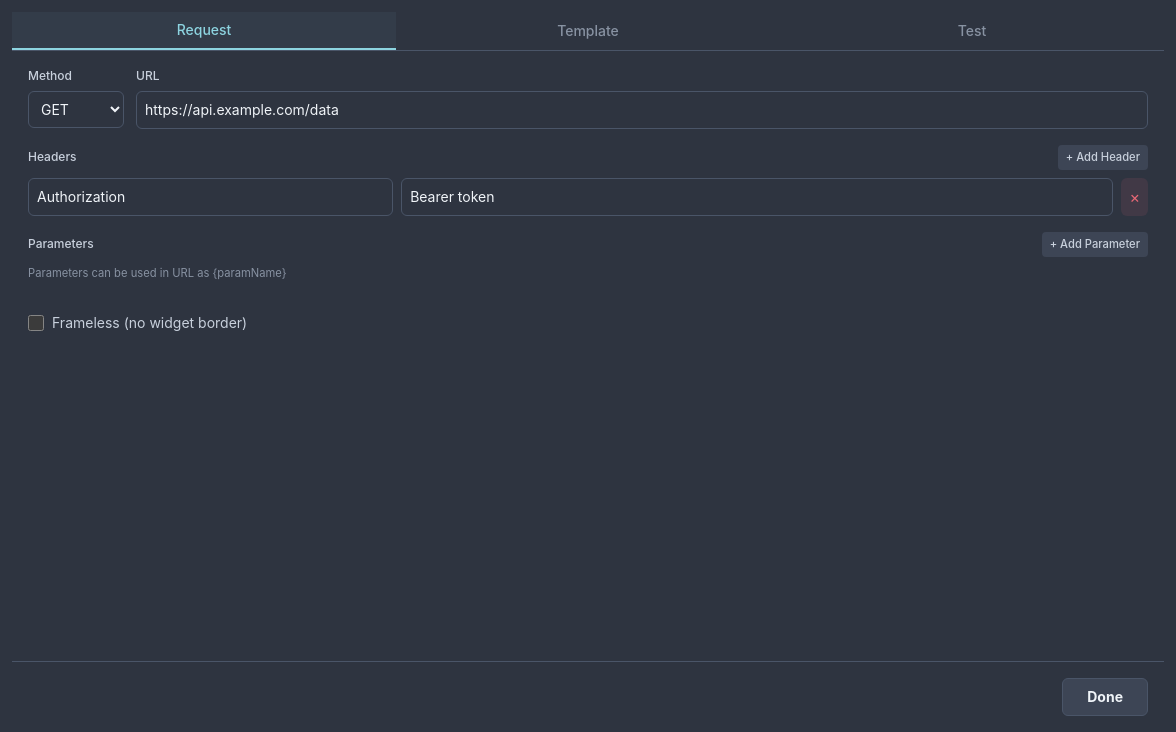
Scenario: CustomApiBuilder › enables send button when URL is provided
Click the button "Test".
click(972, 31)  # box [780, 12, 1164, 50]
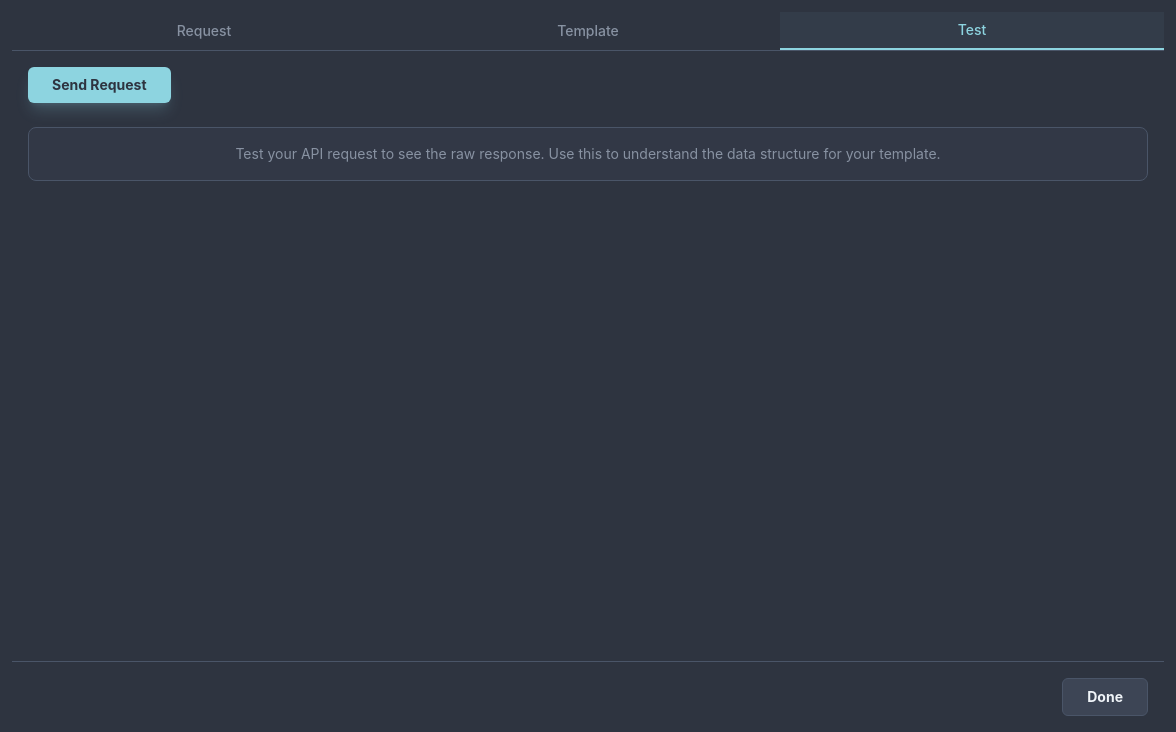
Expected: the button "Send Request" is enabled, [28, 67, 171, 103]
